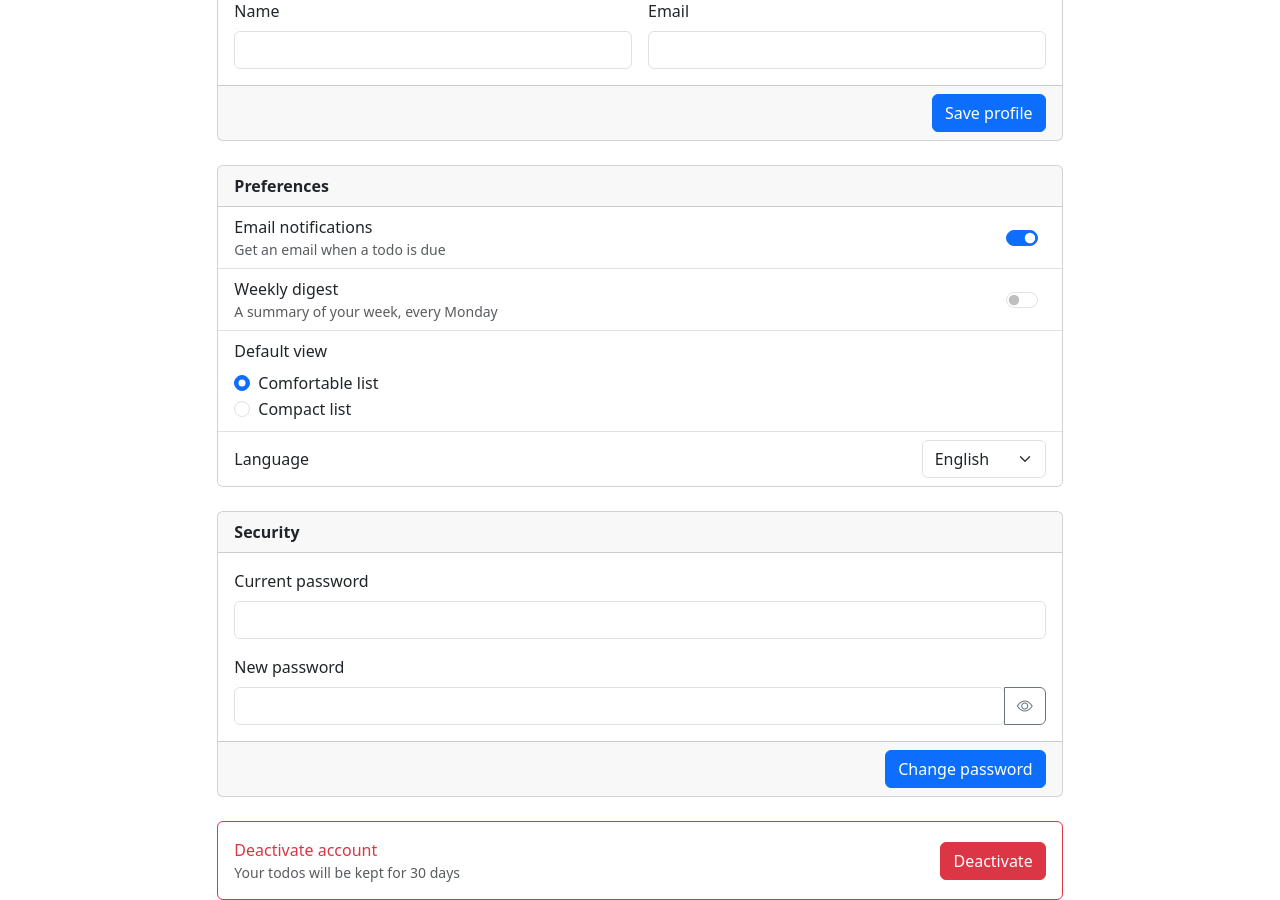
Scenario: should confirm account deactivation
This screenshot has width=1280, height=900.
(page scrolled)
Click the button "Deactivate": [993, 860] box [940,842,1046,880]
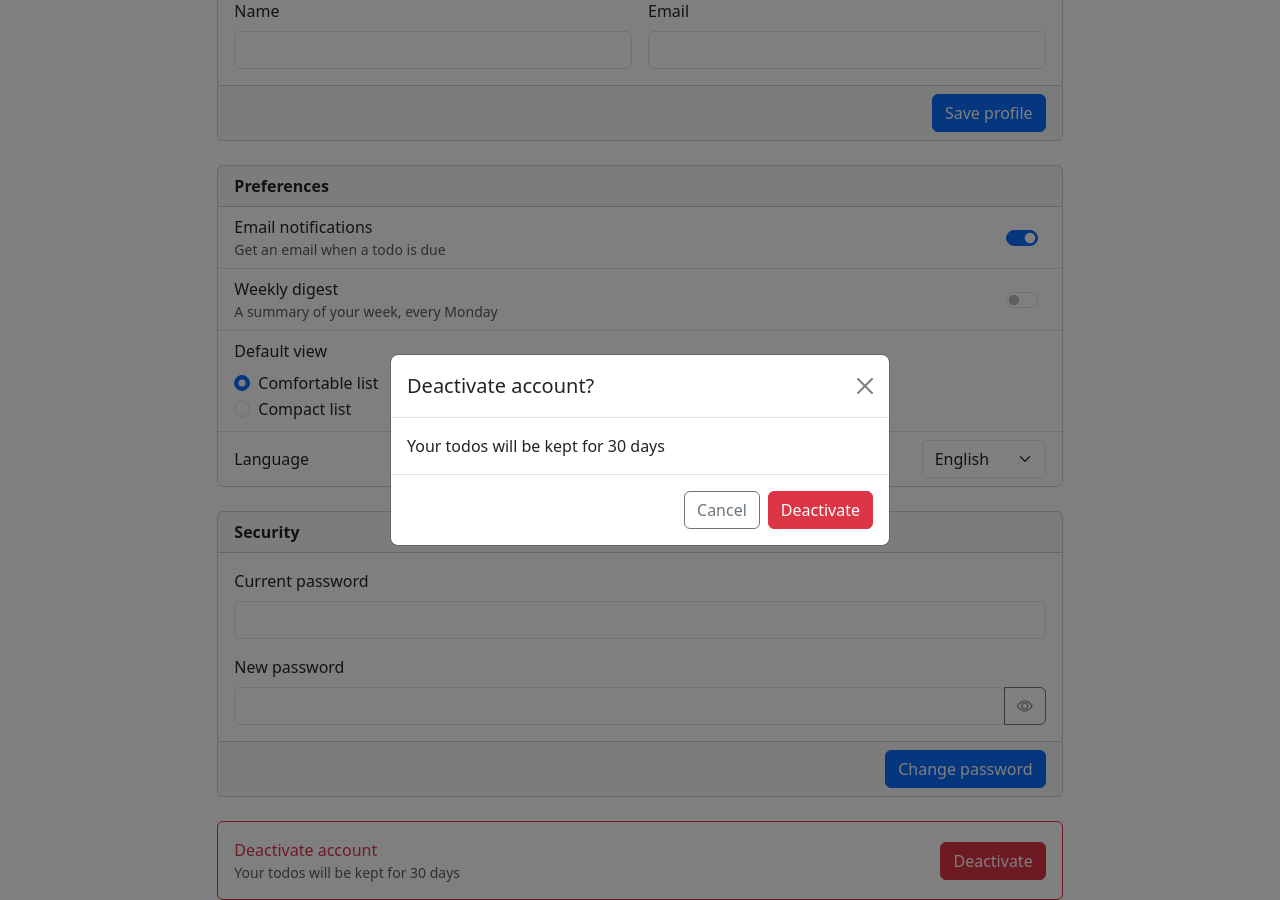
Click the button "Deactivate": [820, 510] box [768,491,873,529]
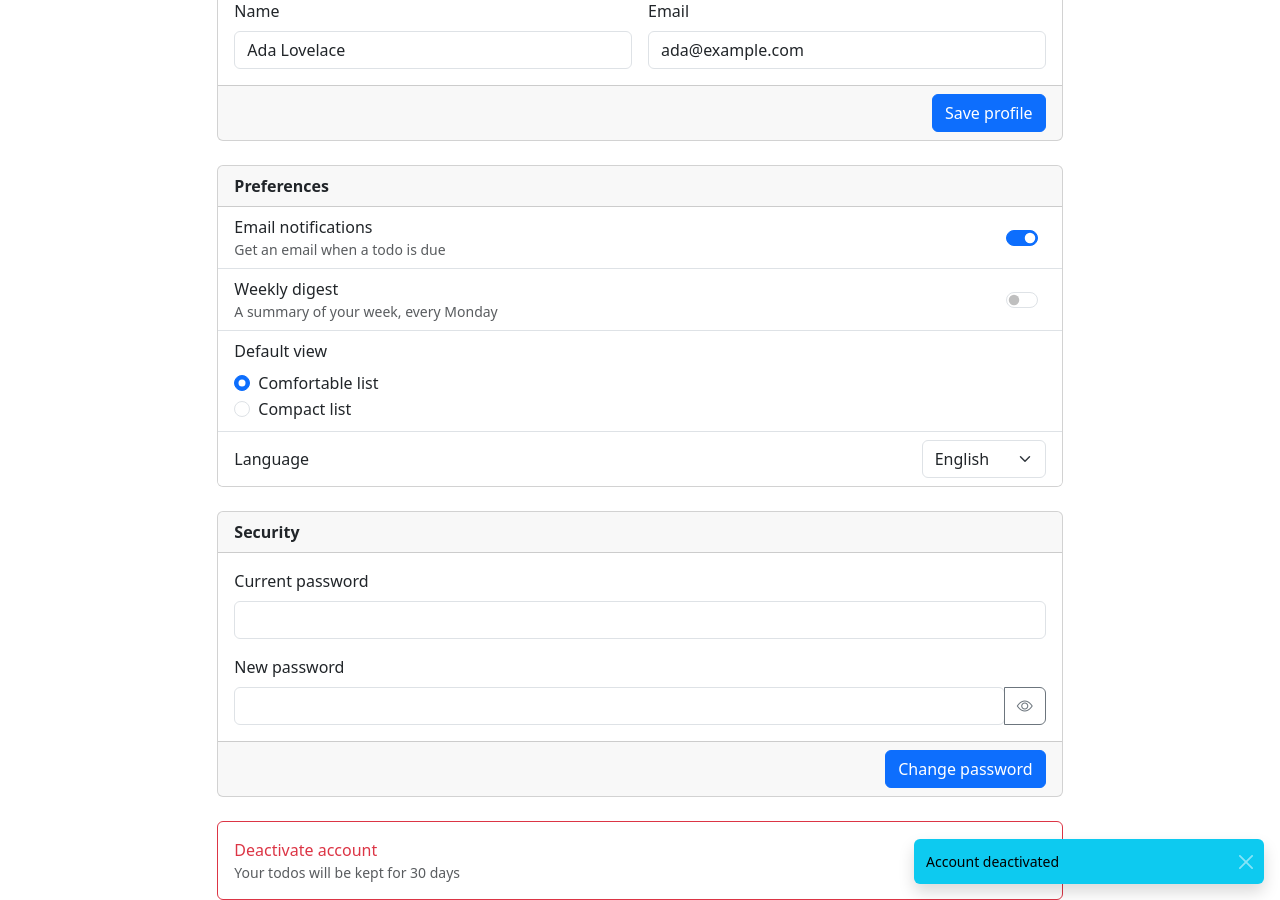
Now the dialog is gone
Now the message reads "Account deactivated", box [926,852,1059,871]
